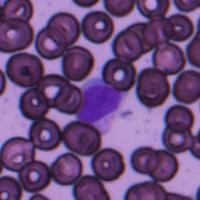L: (77, 78, 126, 128)
